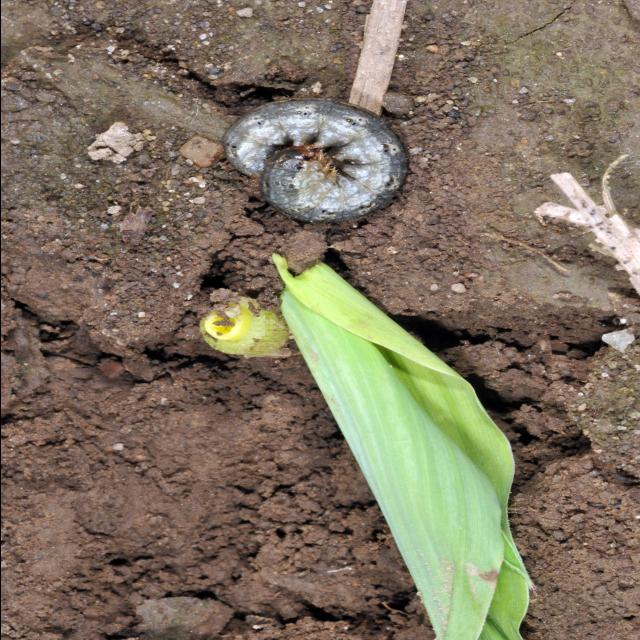cutworm: (216, 91, 394, 226)
